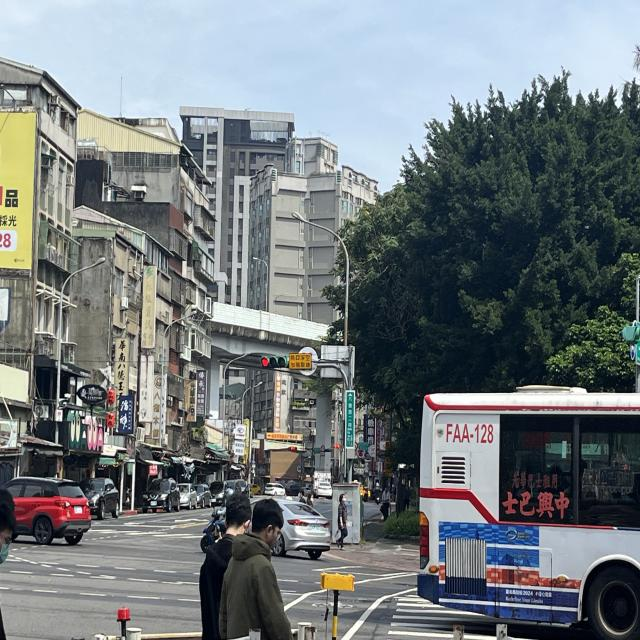red light: (259, 354, 289, 371)
